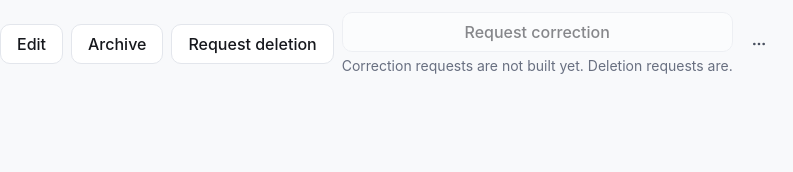
Test case: the More menu › opens from the existing dropdown primitive
Click the button named "More actions for Beta Bank".
click(759, 44)  # box [741, 26, 777, 62]
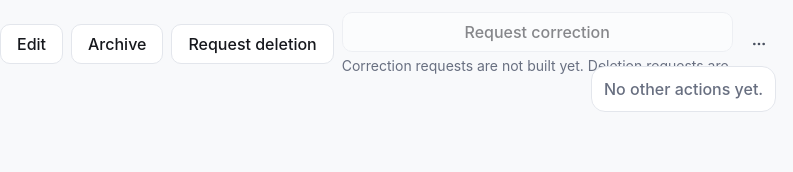
Now the menu is shown, box [591, 66, 776, 112]
